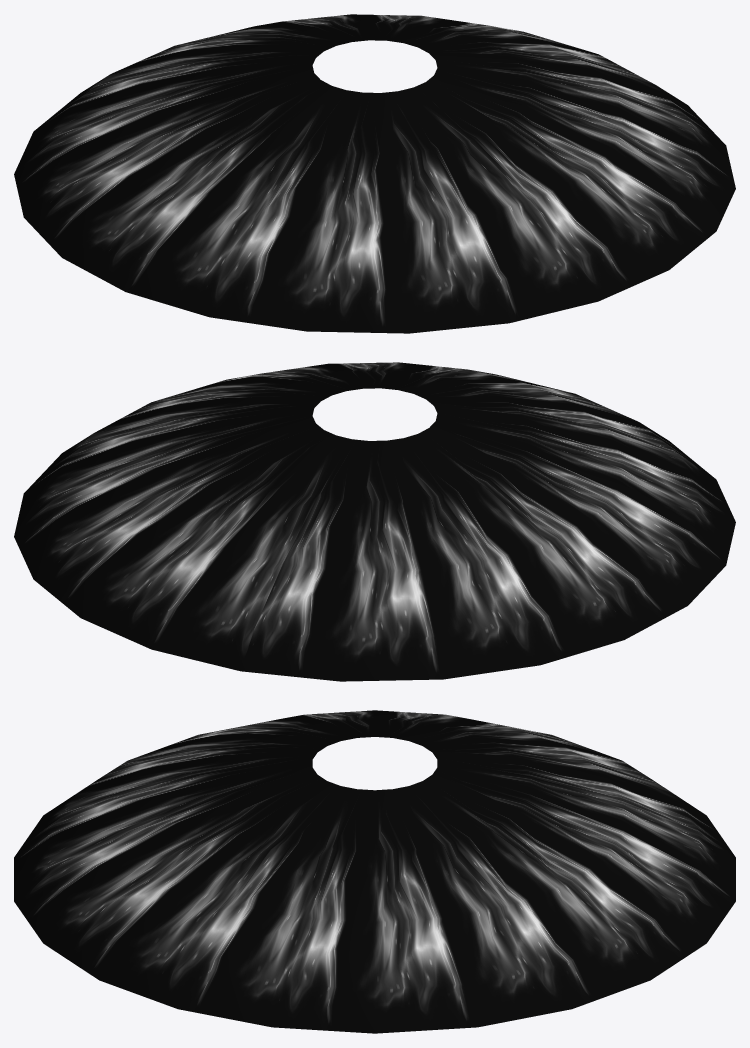
File: critical_mesh.FBX
The picture shows the model from 3 angles, top to bottom: view 1: azimuth 30°, elevation 25°; view 2: azimuth 150°, elevation 25°; view 3: azimuth 270°, elevation 25°; orthographic projection.
Visible parts, largest first — view 1: Cylinder001; view 2: Cylinder001; view 3: Cylinder001.
Part boxes in pixels (left/top/right/bottom): Cylinder001: left=14, top=14, right=735, bottom=333; Cylinder001: left=14, top=362, right=735, bottom=681; Cylinder001: left=14, top=710, right=735, bottom=1033.
Size of the model in its own units: 83.24 by 14.6 by 82.39.
